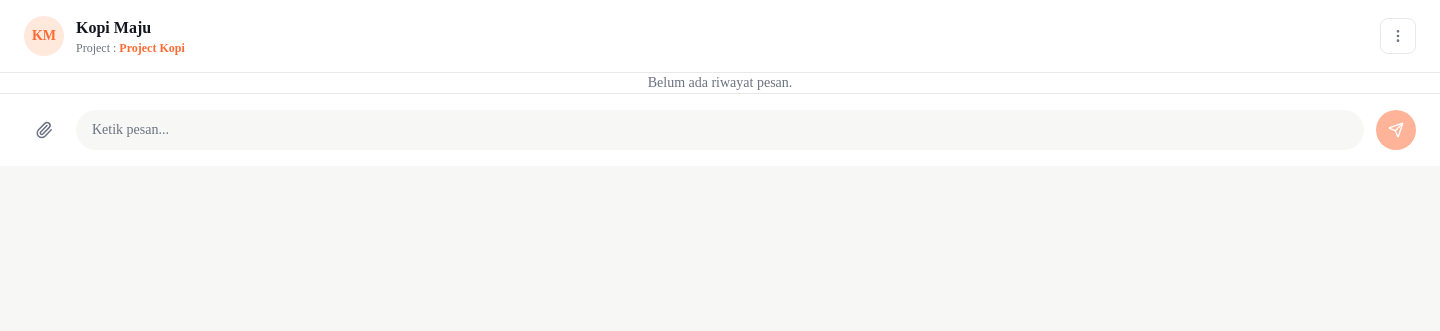
Test: ChatPanel optimistic messages › shows a message immediately while the server action is pending
Step 1. Type "Pesan cepat" into the field with placeholder "Ketik pesan..." → [720, 130], box x1=76 y1=110 x2=1364 y2=150
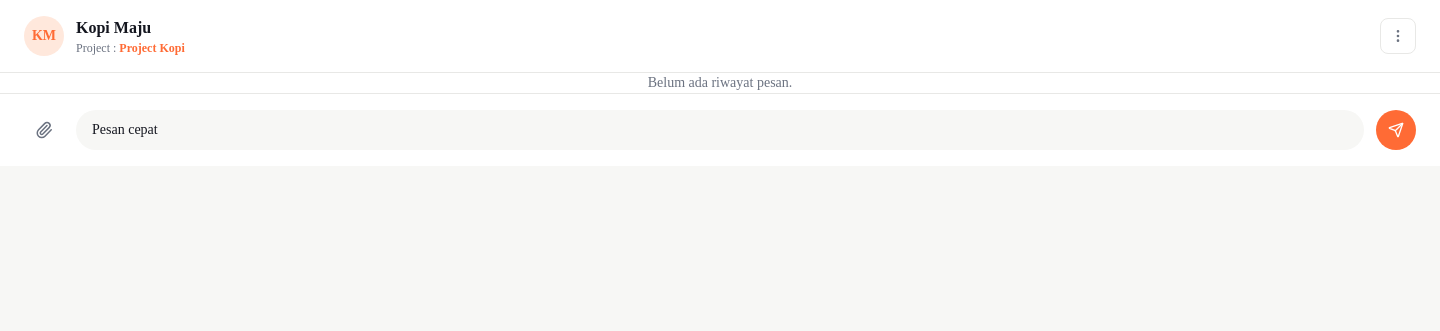
Step 2. Submit the form with placeholder "Ketik pesan...", box x1=24 y1=110 x2=1416 y2=150
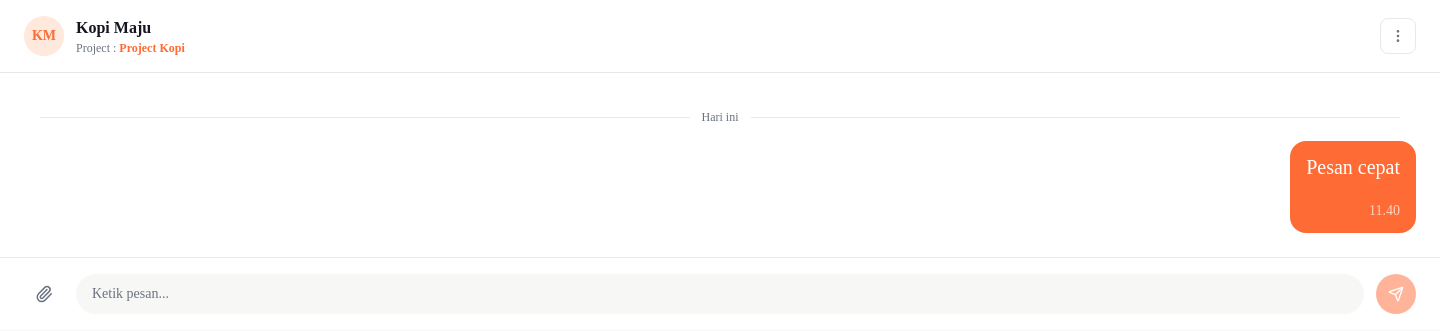
Expected: the text "Pesan cepat" is shown, x1=1306 y1=153 x2=1400 y2=181
Expected: the text "Mengirim" is shown, x1=1369 y1=203 x2=1400 y2=218
Expected: the field with placeholder "Ketik pesan..." is empty, x1=76 y1=274 x2=1364 y2=314
